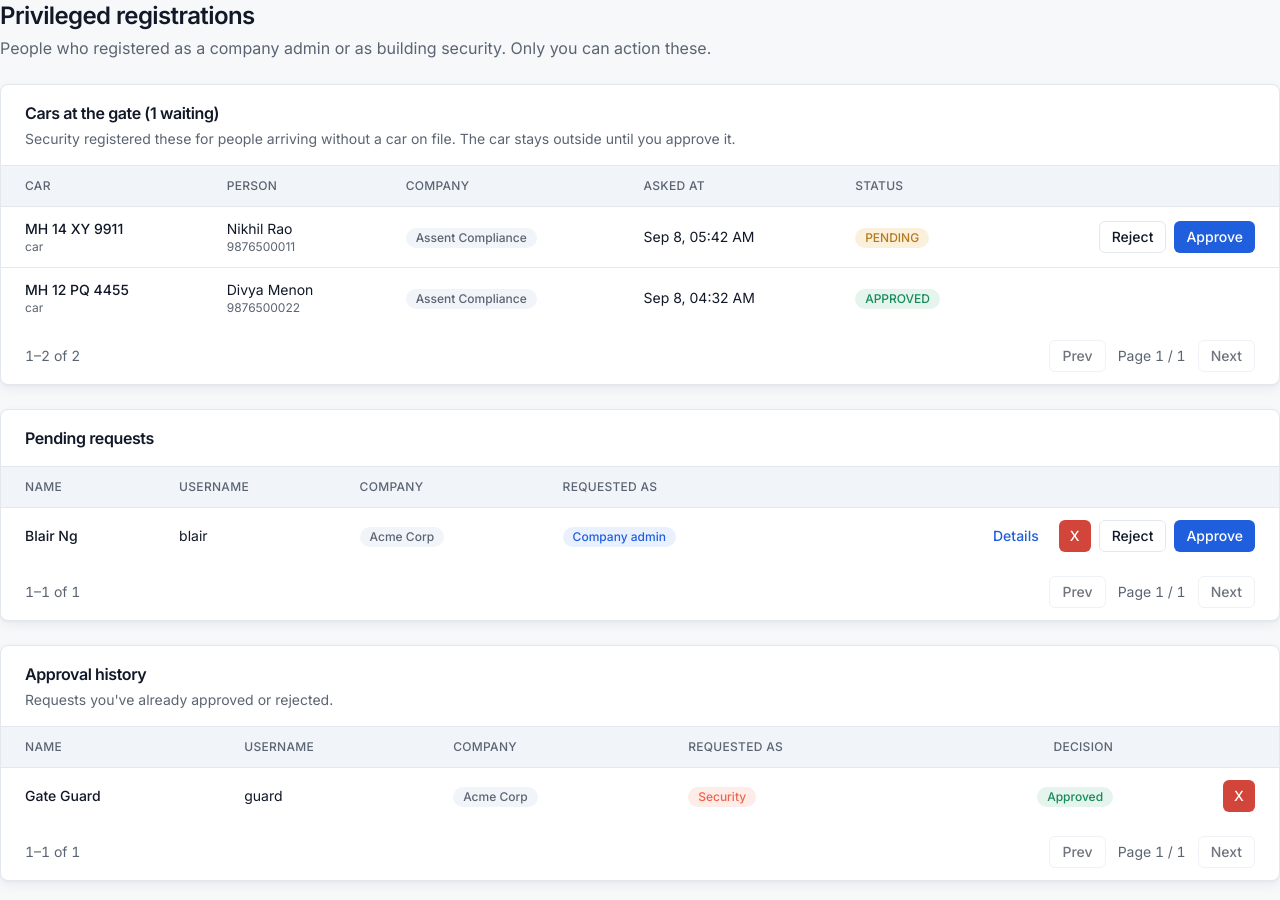
Test case: AdminApprovals › removes a privileged user from the history
Expected: the button "Gate Guard" is shown, [25,786,101,806]
Click the button named "remove gate guard" at (1239, 796), box [1223,780,1255,812]
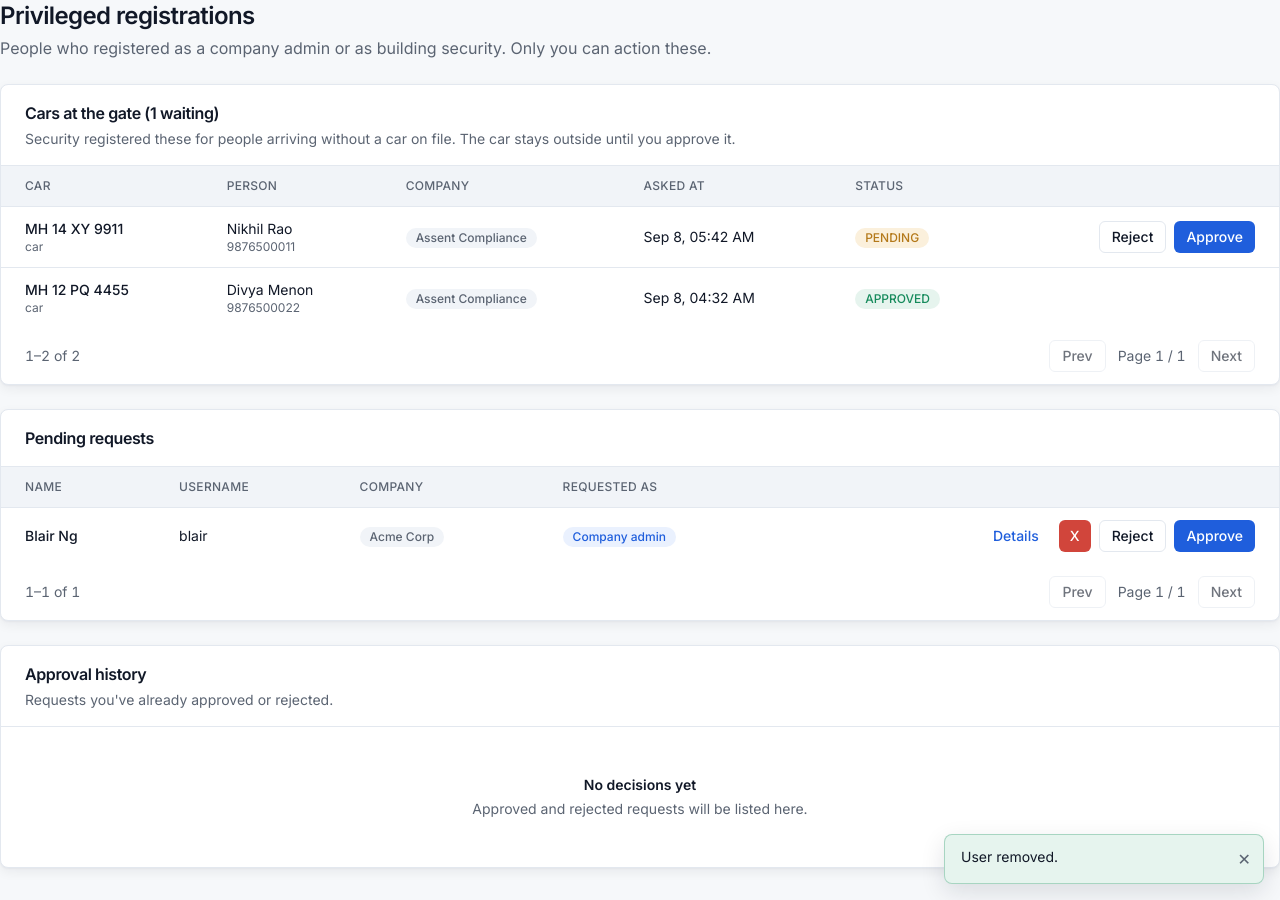
Now the text "User removed." is shown, box [961,848,1058,865]
